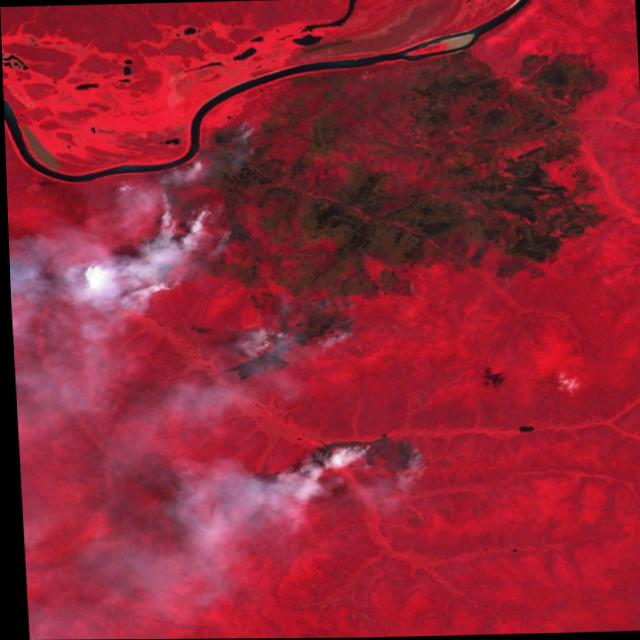fire: (120, 114, 364, 386), (312, 430, 433, 490)
